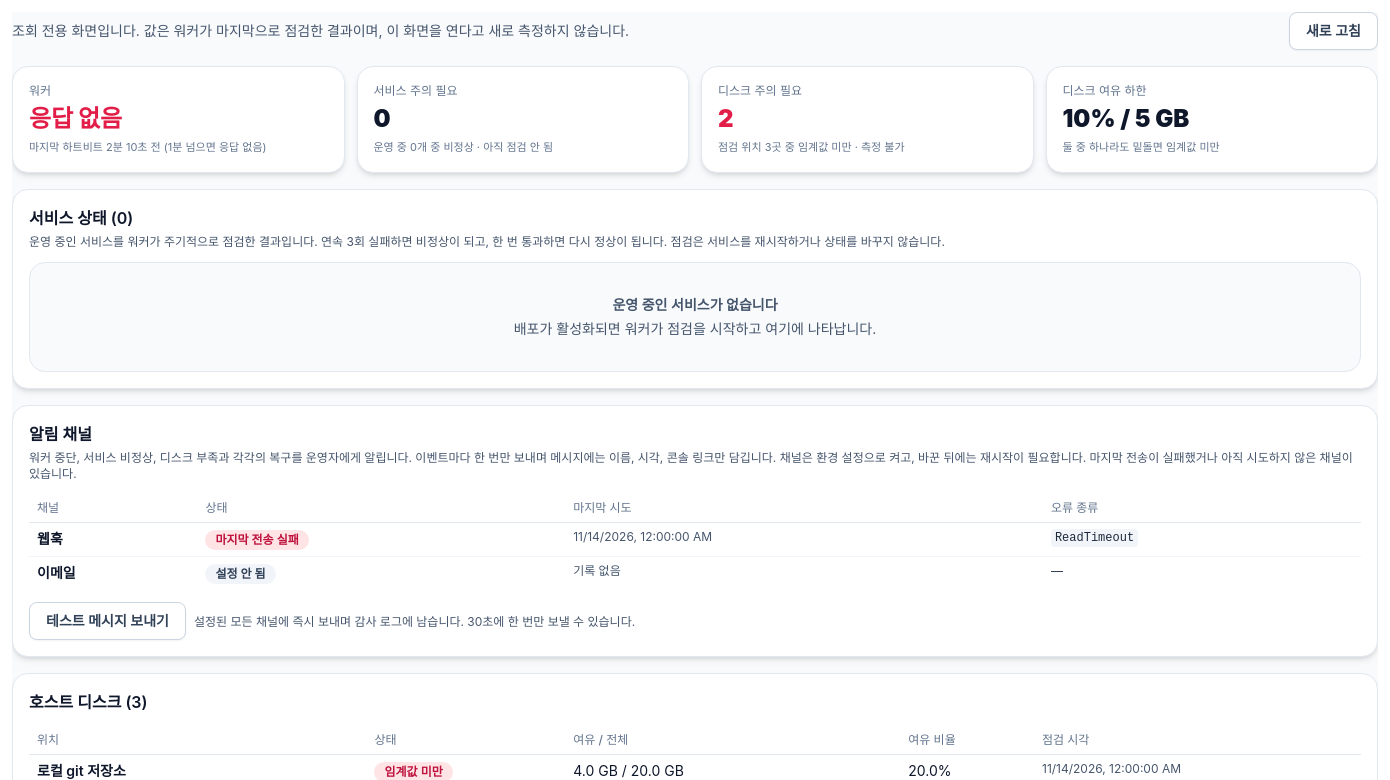
HostHealthPanel — notification channels and the test message › sends the test from a named button and reports each channel's outcome in words
The width and height of the screenshot is (1390, 780).
Click the button "테스트 메시지 보내기": (108, 620) left=29, top=602, right=186, bottom=640
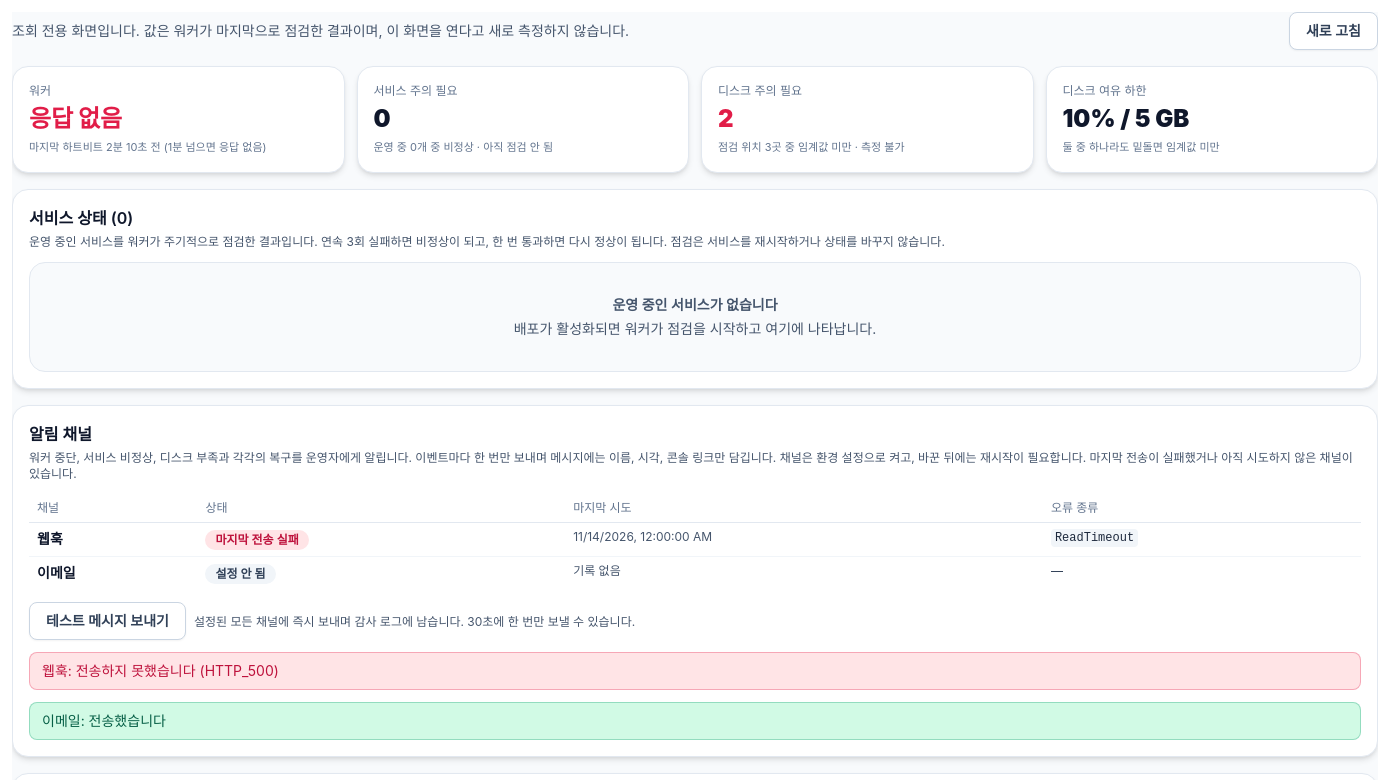
Expected: the text "웹훅: 전송하지 못했습니다 (HTTP_500)" is shown, left=29, top=652, right=1361, bottom=690
Expected: the text "이메일: 전송했습니다" is shown, left=29, top=702, right=1361, bottom=740
